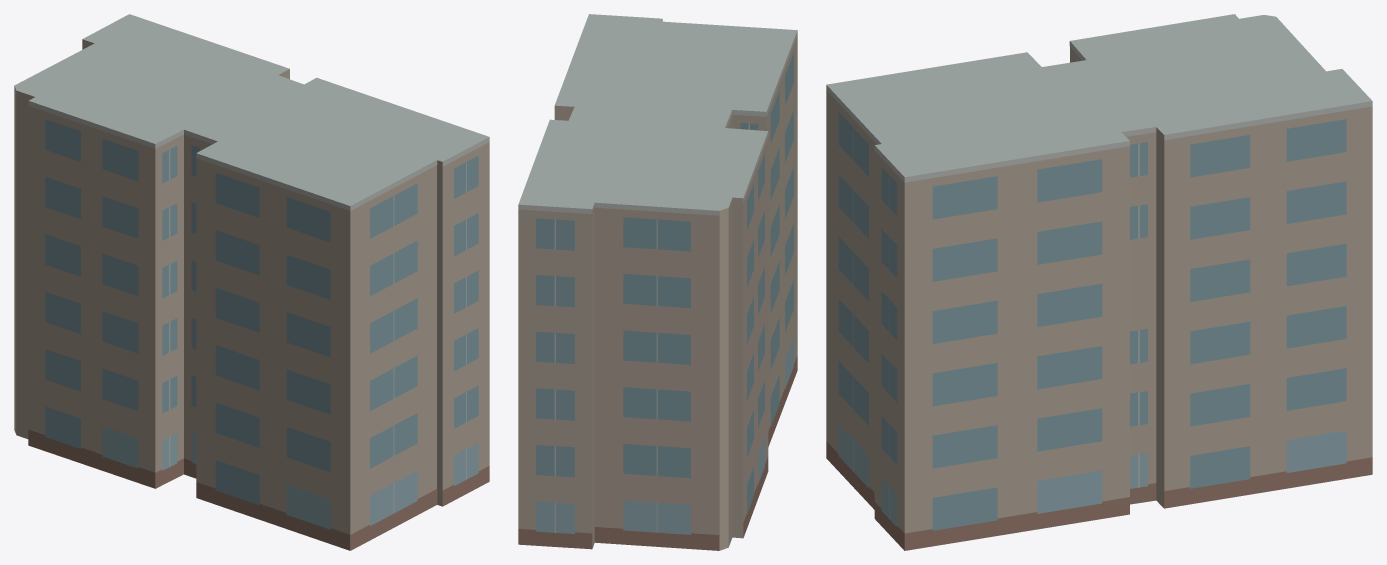
The model's file is survey-upis-32580449.glb.
3 views of the same model, side by side, from view 1: azimuth 30°, elevation 25°; view 2: azimuth 150°, elevation 25°; view 3: azimuth 270°, elevation 25° (orthographic). The views are drawn at different scales.
Visible parts, largest first — view 1: survey-upis-32580449.tmp; view 2: survey-upis-32580449.tmp; view 3: survey-upis-32580449.tmp.
Part boxes in pixels (left/top/right/bottom): survey-upis-32580449.tmp: left=14, top=14, right=489, bottom=550; survey-upis-32580449.tmp: left=518, top=14, right=797, bottom=550; survey-upis-32580449.tmp: left=826, top=14, right=1372, bottom=550.
Bounding box in the file's own units: 15.95 × 17 × 22.54.
